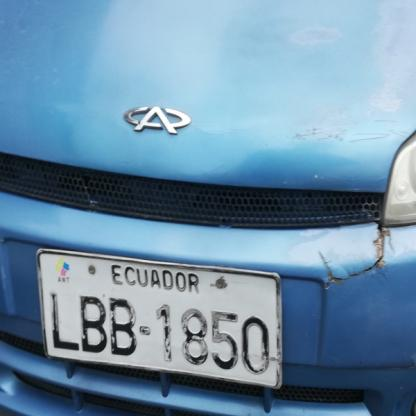Placa: (30, 250, 285, 383)
